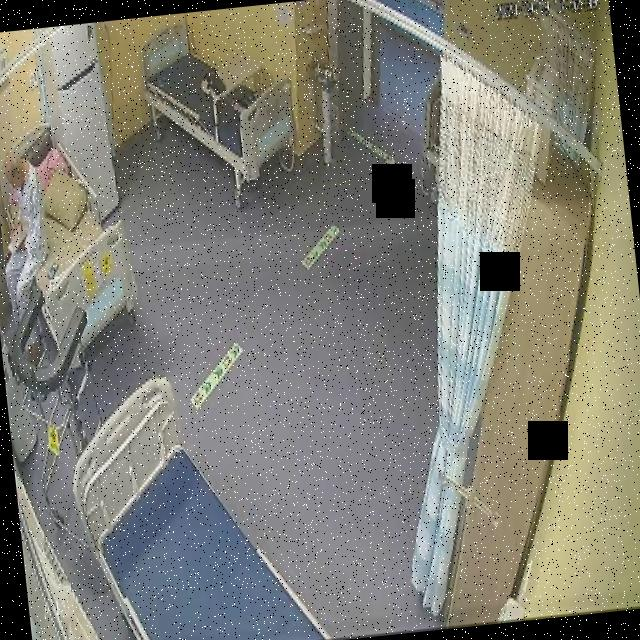bed: (59, 357, 327, 640), (0, 121, 141, 358), (140, 10, 302, 187)
patient: (0, 143, 56, 327)
sit: (0, 142, 54, 325)
walker: (5, 284, 114, 554)
